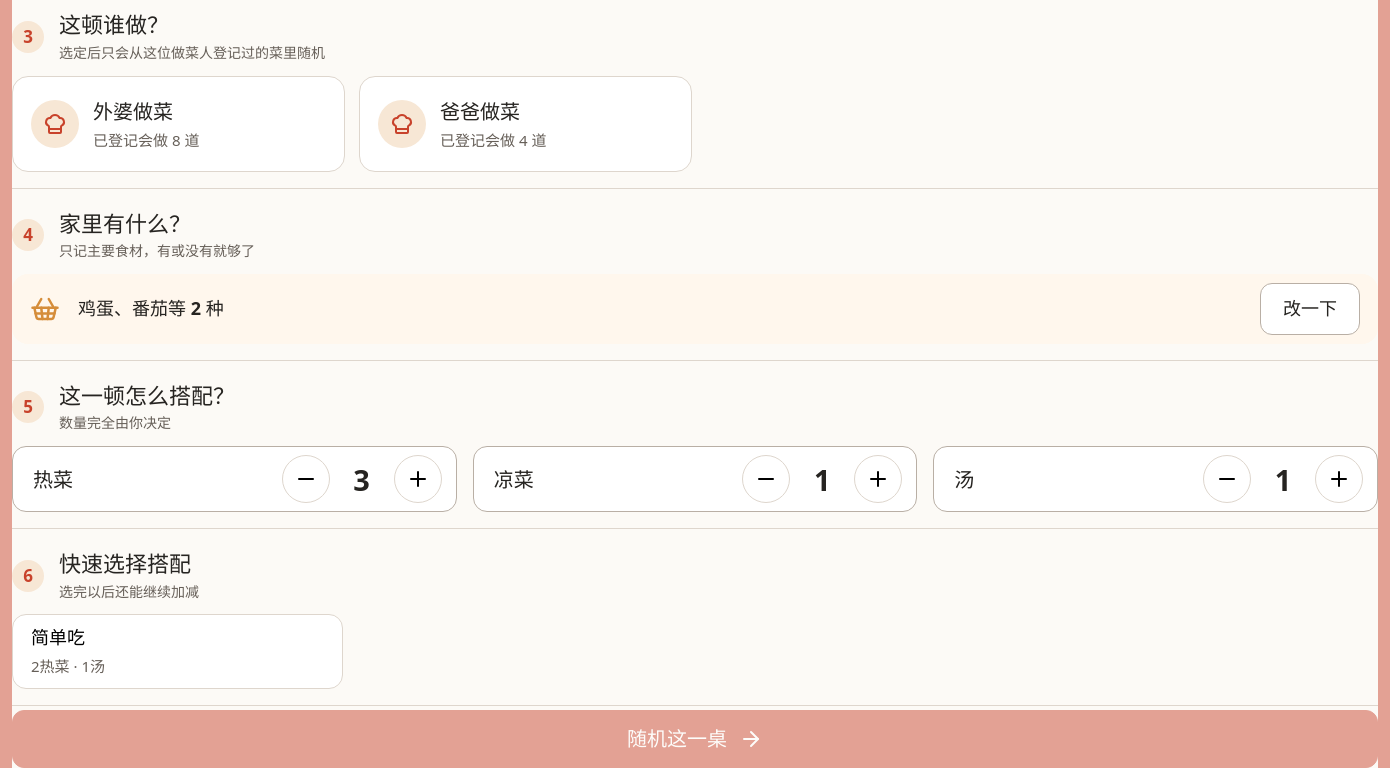
it: MealSetup › uses a preset as editable values rather than a separate mode
(page scrolled)
Click the button named "简单吃，2热菜0凉菜1汤": click(58, 637) [12,614,343,688]
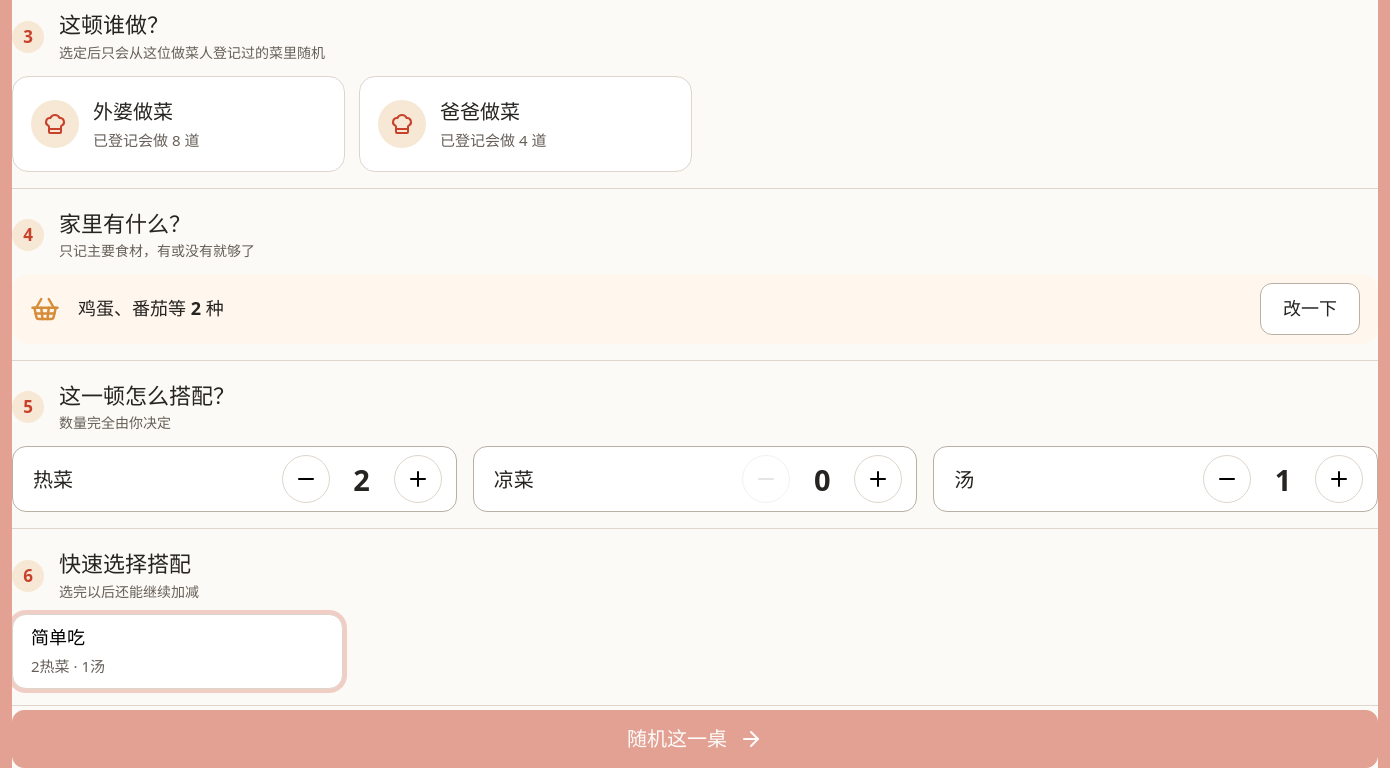
Expected: the element named "热菜数量" shows "2", [353,460,370,499]
Expected: the element named "凉菜数量" shows "0", [814,460,831,499]
Click the button named "增加热菜": click(418, 479) [394,455,442,503]
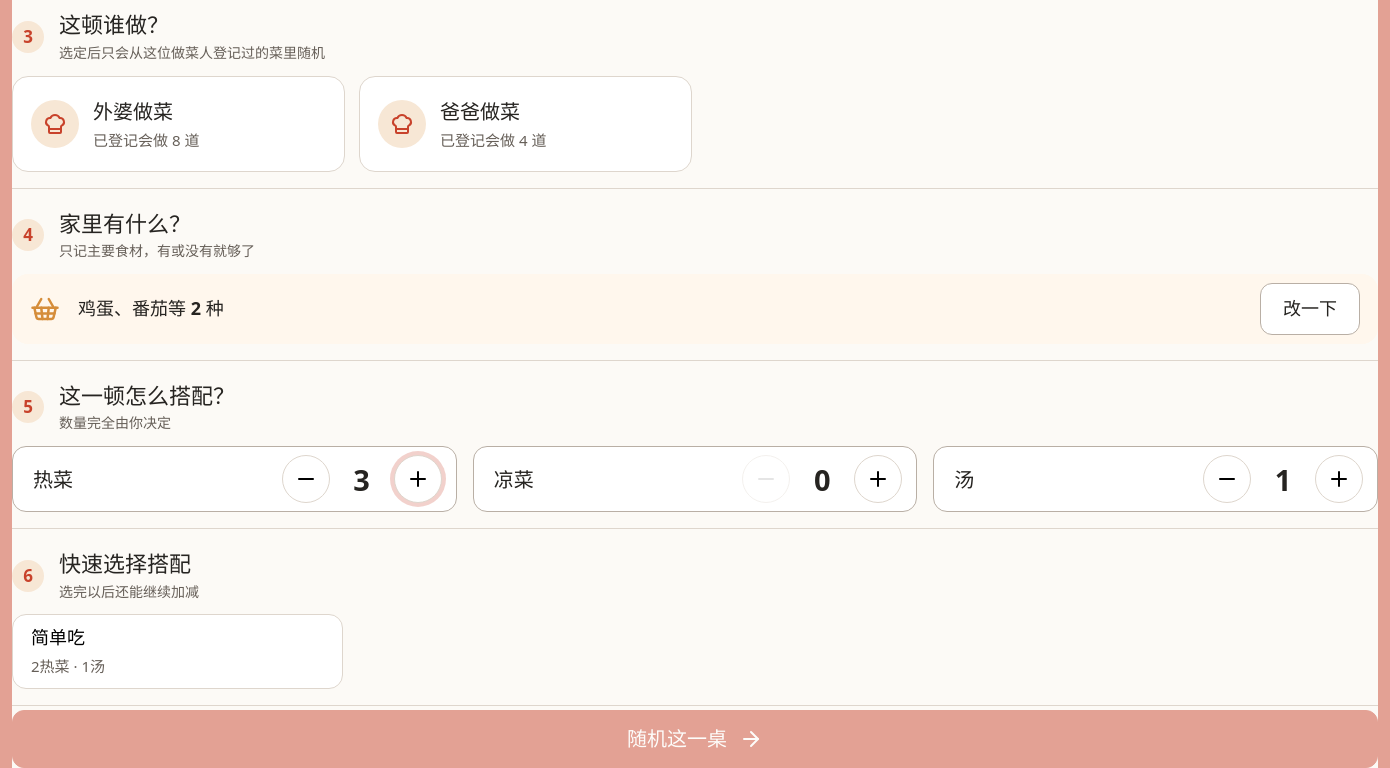
Expected: the element named "热菜数量" shows "3", [353,460,370,499]
